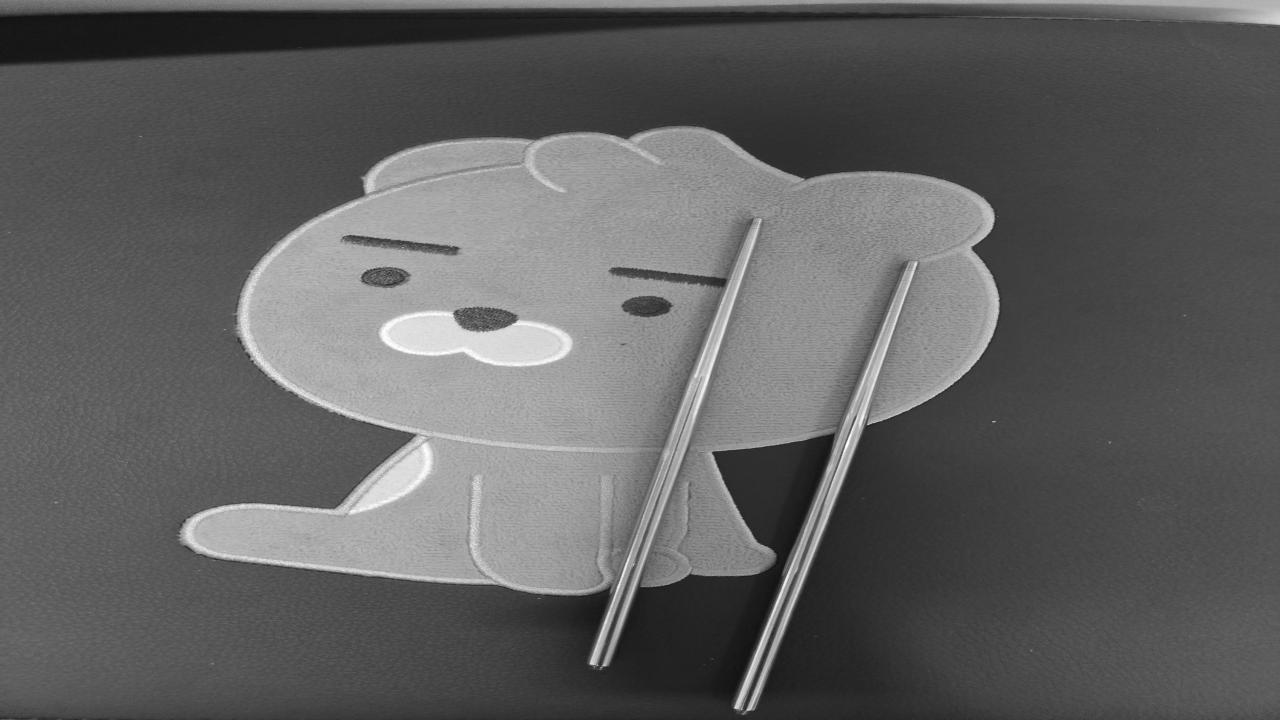chopstick: (715, 256, 930, 718), (567, 214, 773, 677)
